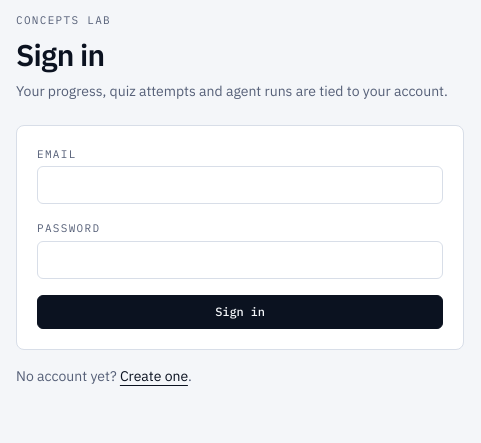
Test: LoginPage › validates the fields before it makes a request
This screenshot has width=481, height=443.
Click the button "Sign in" at (240, 312), box [37, 294, 443, 328]
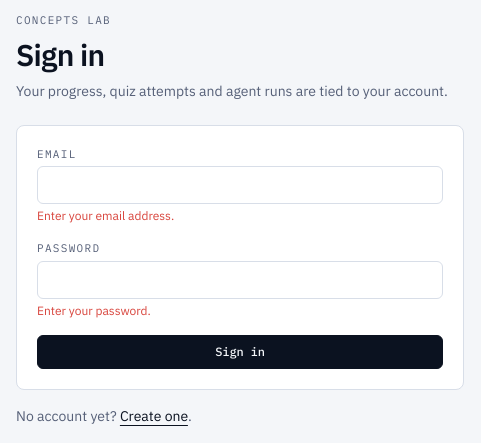
Expected: the text "Enter your email address." is shown, [37, 208, 174, 223]
Expected: the text "Enter your password." is shown, [37, 302, 151, 318]
